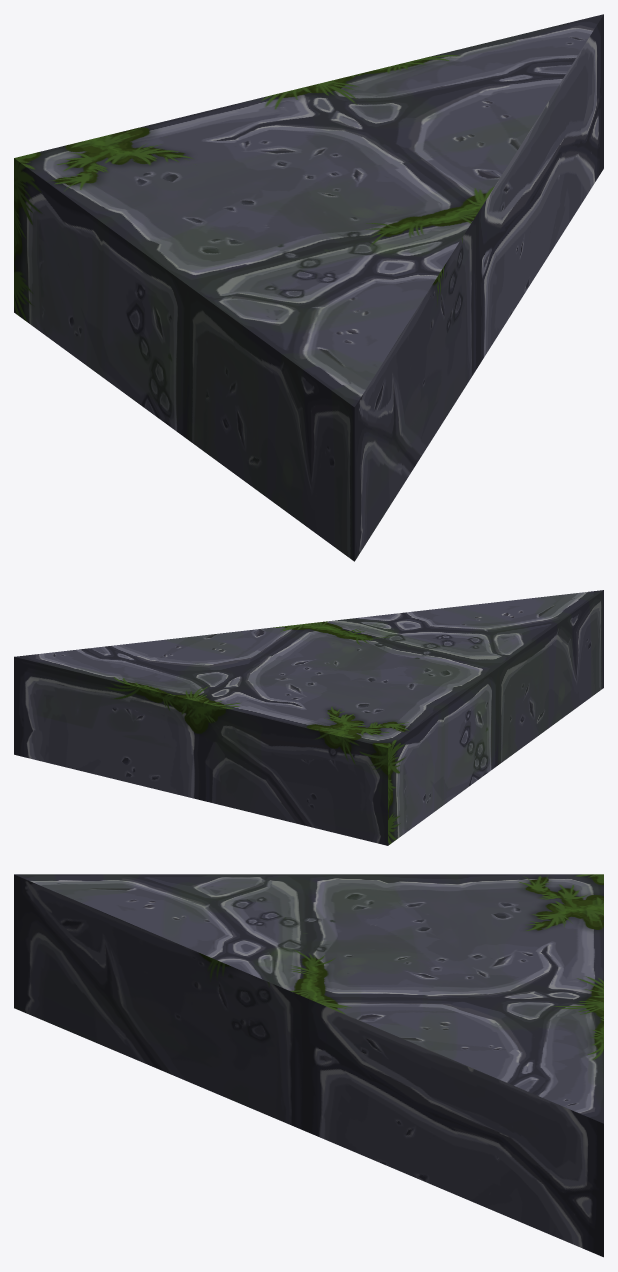
File: MOD_Floor_01_E_angle_tiny.fbx
3 views of the same model, one above another, from view 1: azimuth 30°, elevation 25°; view 2: azimuth 150°, elevation 25°; view 3: azimuth 270°, elevation 25° (orthographic). The views are drawn at different scales.
Visible parts, largest first — view 1: MOD_Floor_01_E_angle_tiny; view 2: MOD_Floor_01_E_angle_tiny; view 3: MOD_Floor_01_E_angle_tiny.
Part boxes in pixels (bbox=[...]): MOD_Floor_01_E_angle_tiny: bbox=[14, 14, 603, 561]; MOD_Floor_01_E_angle_tiny: bbox=[14, 590, 603, 845]; MOD_Floor_01_E_angle_tiny: bbox=[14, 874, 603, 1257].
Bounding box in the file's own units: 200 × 50 × 200.
